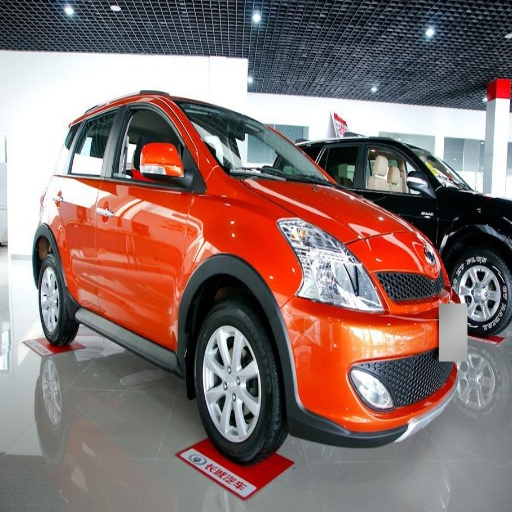front_bumper: (281, 299, 464, 443)
front_right_door: (98, 102, 193, 337)
front_right_light: (278, 219, 385, 310)
trunk: (378, 298, 444, 333)
